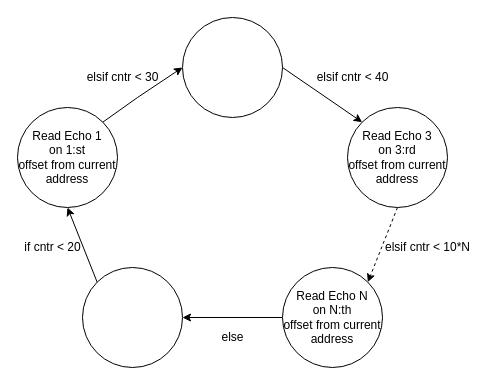
Some shapes in this 495 by 385 pixel diagram are drawn without their labels. Each missing label, with the box of its shape:
Read Echo 2 on 2:nd offset from current address: (182, 16, 282, 118)
Write over last sample at current address: (82, 266, 182, 368)
